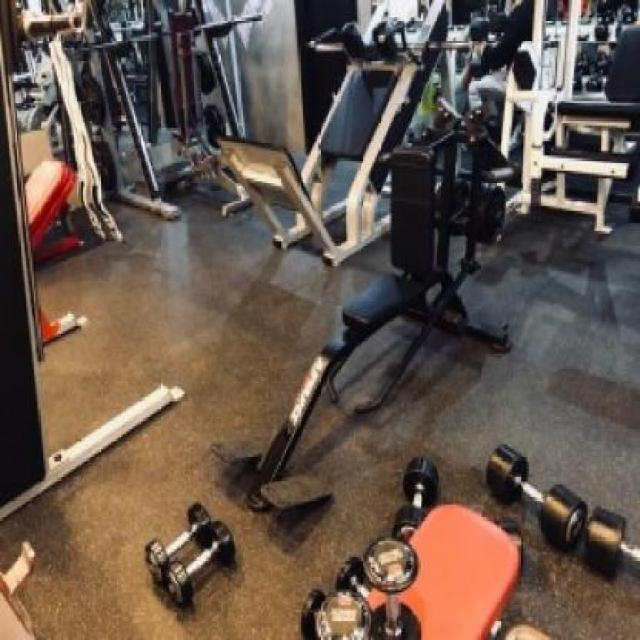lateral raises machine: (218, 129, 517, 522)
